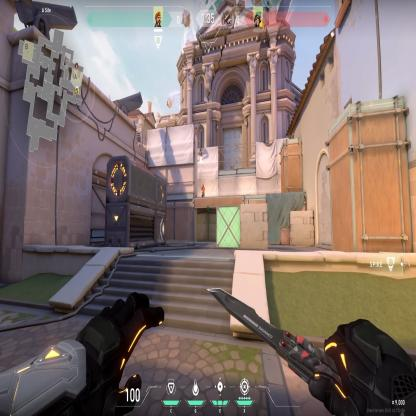enemy: (201, 182, 205, 198)
